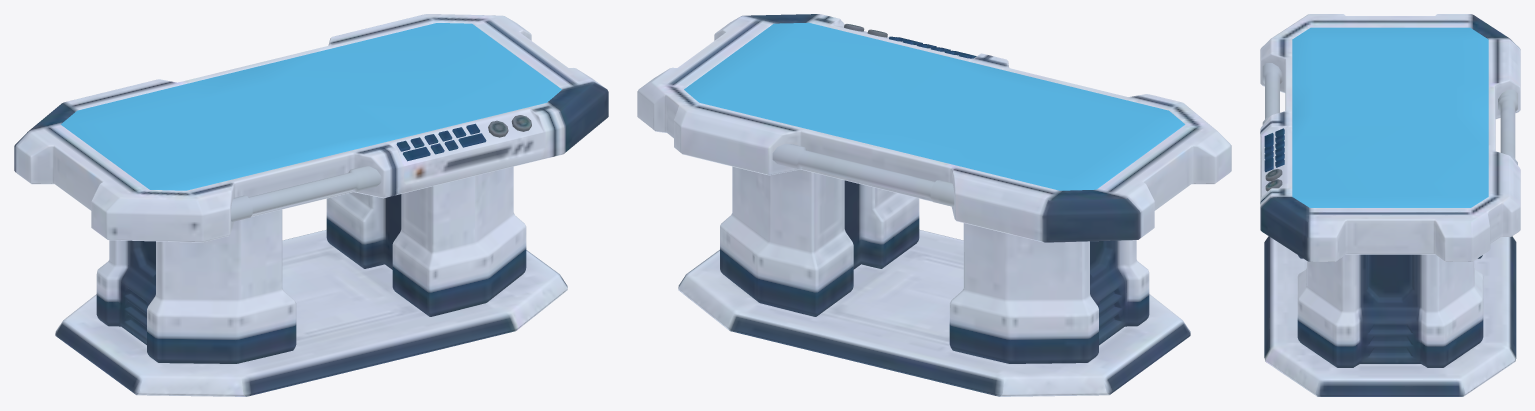
3 renders of one model, left to right at view 1: azimuth 30°, elevation 25°; view 2: azimuth 150°, elevation 25°; view 3: azimuth 270°, elevation 25°, orthographic. The views are drawn at different scales.
Bounding box in the file's own units: 19.82 × 7.82 × 9.93.
3 materials, 2 textured.
